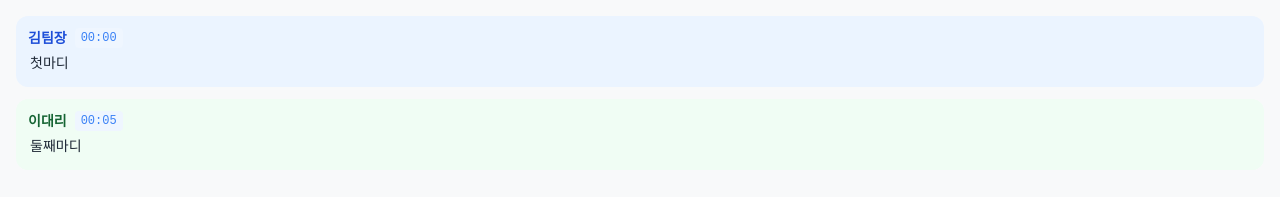
it: Transcript — 편집 모드 진입 시 speakerMap 시드 (차단 3 근본원인 회귀 잠금) › 한 화자만 개명해 저장해도, 시드된 나머지 화자의 기존 이름이 speakerMap payload에서 유실되지 않는다
Click the text titled "클릭하여 이름 변경". click: (47, 38)
box: [28,28,67,48]
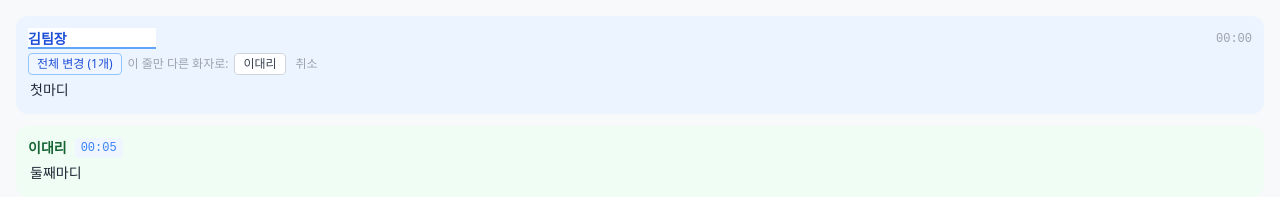
Replace the text in the field with placeholder "새 이름" with "박부장". click: (92, 38)
box: [28,28,156,49]
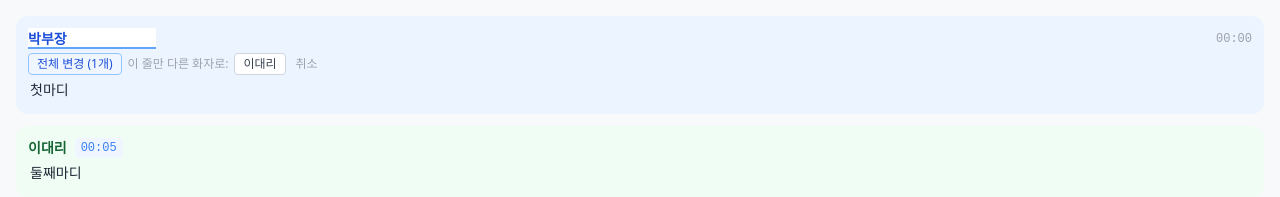
Press the mouse on the button "전체 변경 (1개)" at (75, 64), box [28,53,122,75]
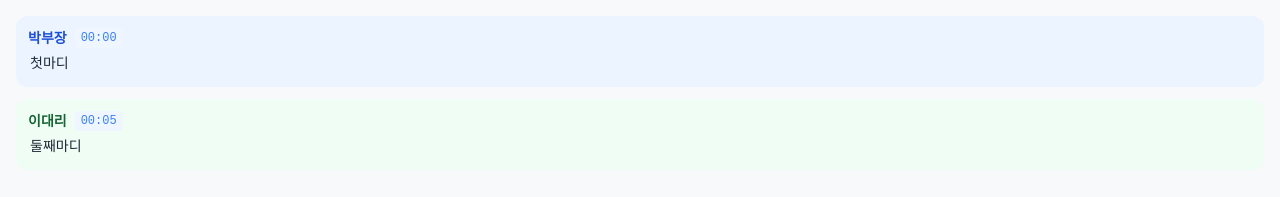
Expected: the text titled "클릭하여 이름 변경" reads "이대리", [28,111,67,130]
Result: the text "박부장" is shown at [28,28,67,48]
